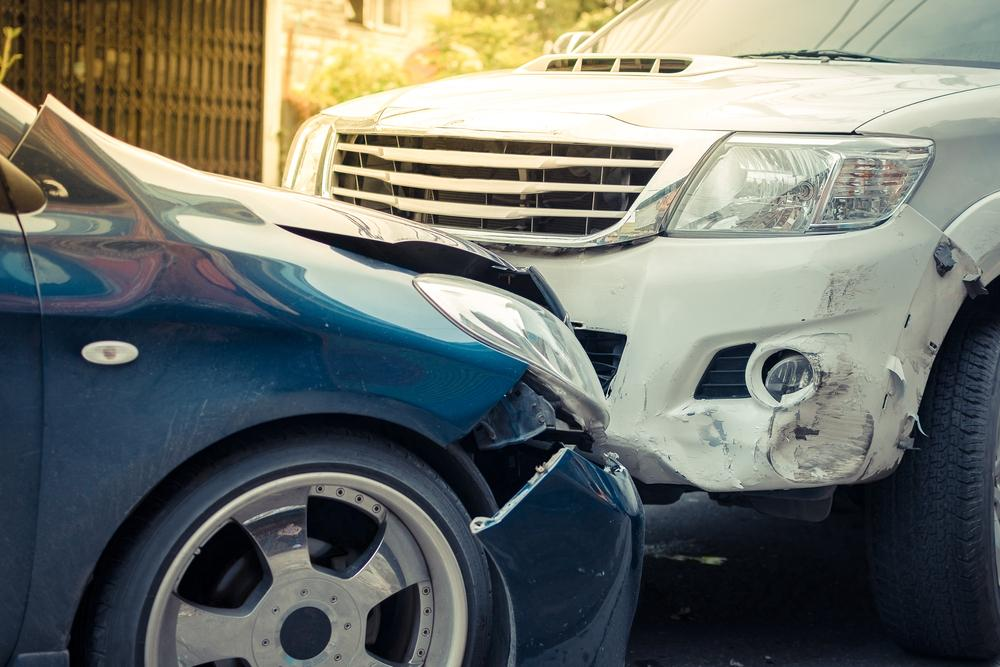dent: (660, 361, 867, 491)
scratch: (816, 259, 877, 323)
